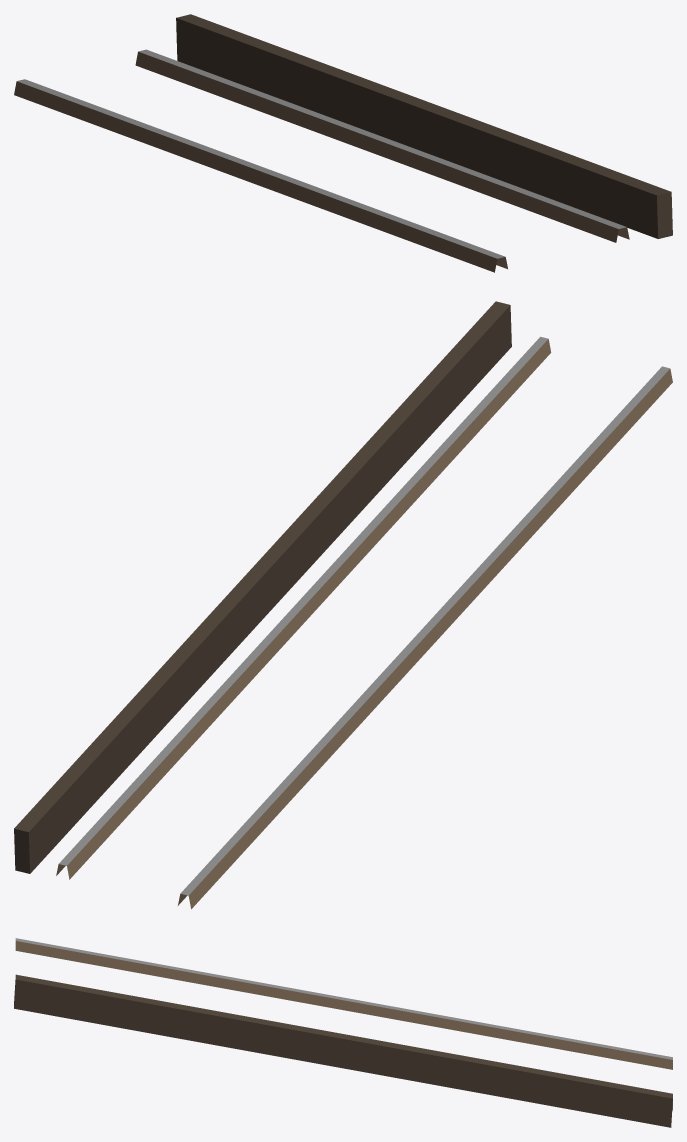
Rendered from SW_ENV_TrackRise_10m_Collision.fbx.
The picture shows the model from 3 angles, top to bottom: view 1: azimuth 30°, elevation 25°; view 2: azimuth 150°, elevation 25°; view 3: azimuth 270°, elevation 25°; orthographic projection. The views are drawn at different scales.
Visible parts, largest first — view 1: SW_ENV_TrackRise_10m_Collision; view 2: SW_ENV_TrackRise_10m_Collision; view 3: SW_ENV_TrackRise_10m_Collision.
Boxes of the visible parts, <box> form: SW_ENV_TrackRise_10m_Collision: <box>14,14,672,272</box>; SW_ENV_TrackRise_10m_Collision: <box>14,301,672,909</box>; SW_ENV_TrackRise_10m_Collision: <box>14,938,672,1127</box>.
Size of the model in its own units: 212 by 249 by 1003.
